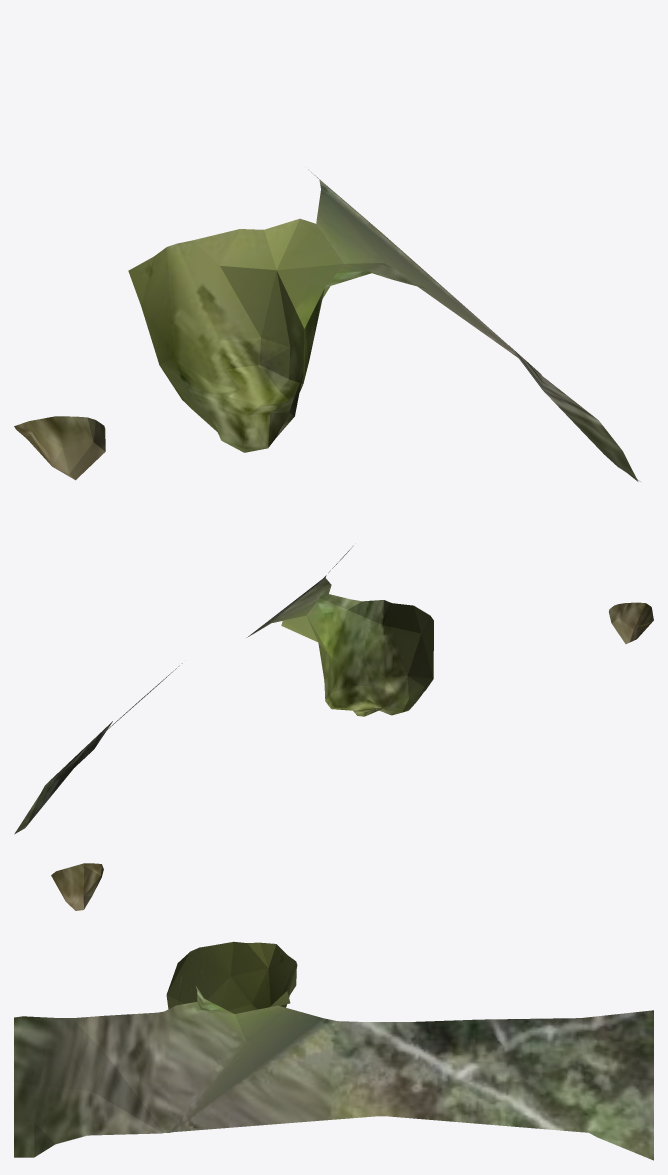
3 renders of one model, top to bottom at view 1: azimuth 30°, elevation 25°; view 2: azimuth 150°, elevation 25°; view 3: azimuth 270°, elevation 25°, orthographic. The views are drawn at different scales.
Bounding box in the file's own units: 2.05 × 0.5567 × 2.95.
Materials: 1 (1 with a texture image).
